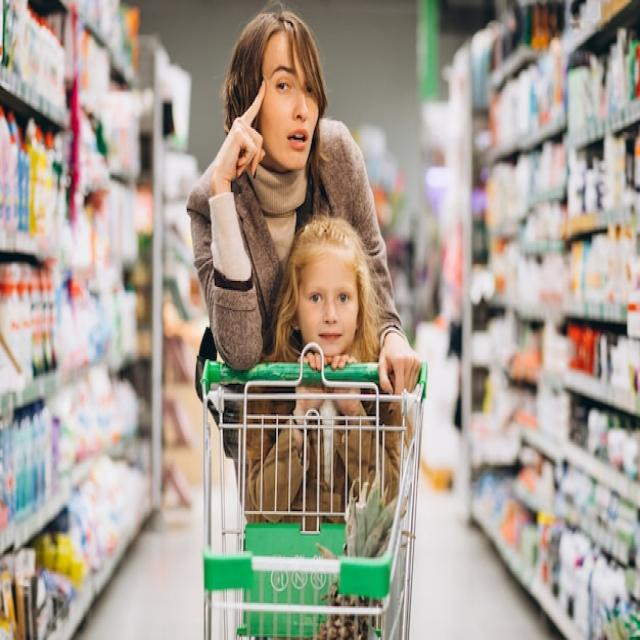Person: (189, 11, 422, 405), (243, 215, 410, 522)
